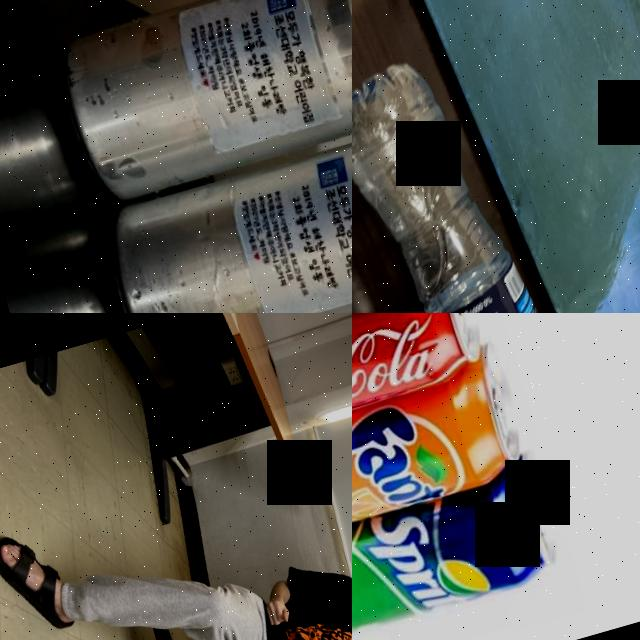bottle: (352, 32, 618, 313)
can: (45, 0, 352, 213), (85, 117, 352, 313), (352, 453, 570, 640), (352, 339, 533, 548), (352, 313, 493, 449)
